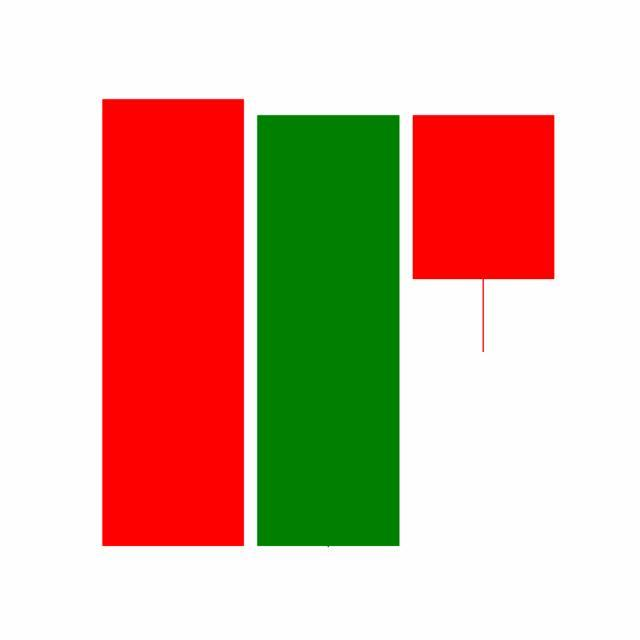Marubozu: (250, 112, 407, 553)
